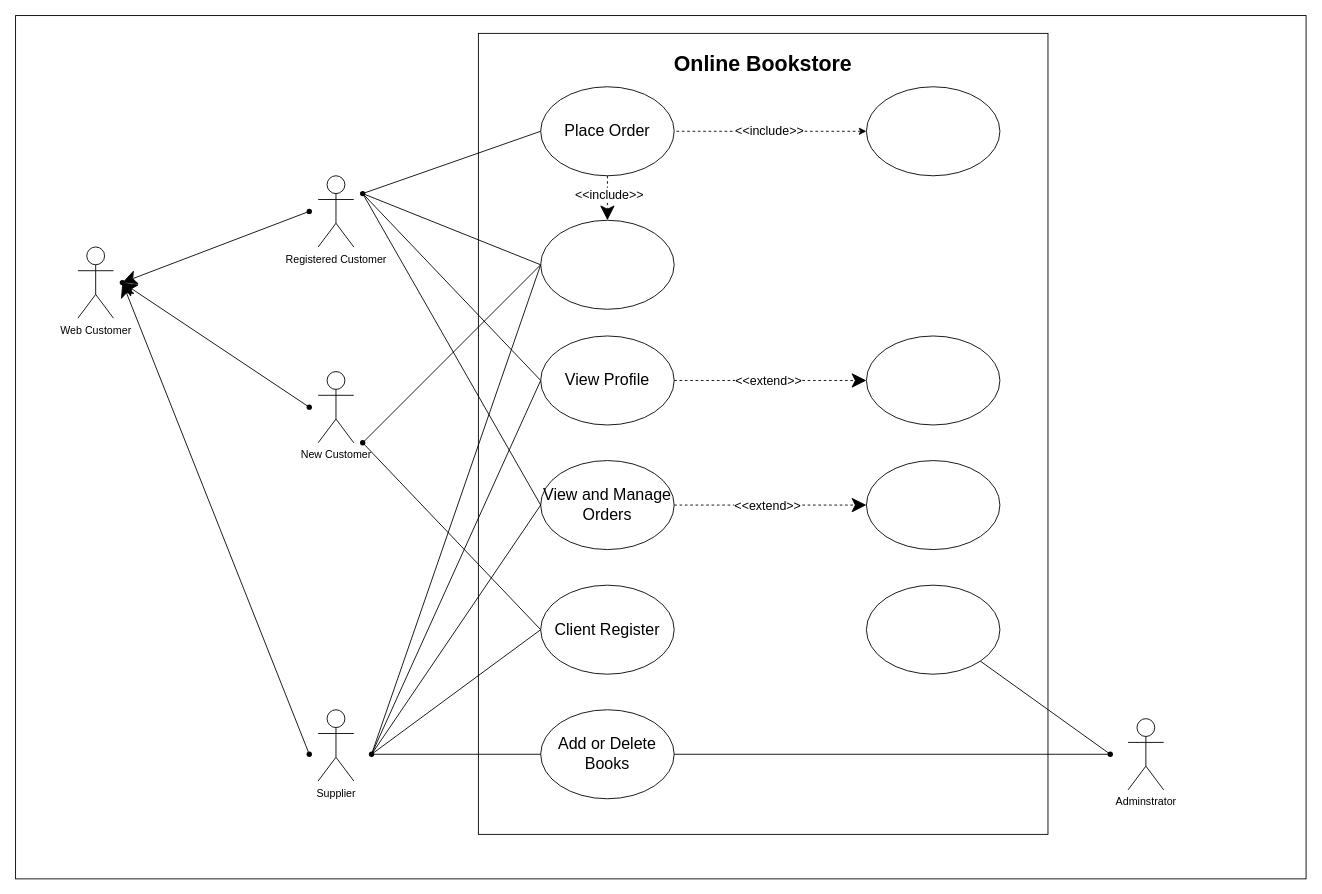
Image size: 1322x894. Some labels were removed from this diagram. The shapes that lost their labels are listed below. From the top down, each one's centre as x and y in pixels, then its label:
At point 933,131: "Checkout".
At point 607,264: "View Books".
At point 933,380: "Edit Profile".
At point 933,505: "Cancel Orders".
At point 933,629: "Manage Account".
